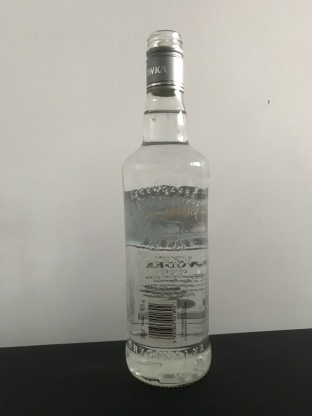nakretka: (143, 27, 186, 98)
